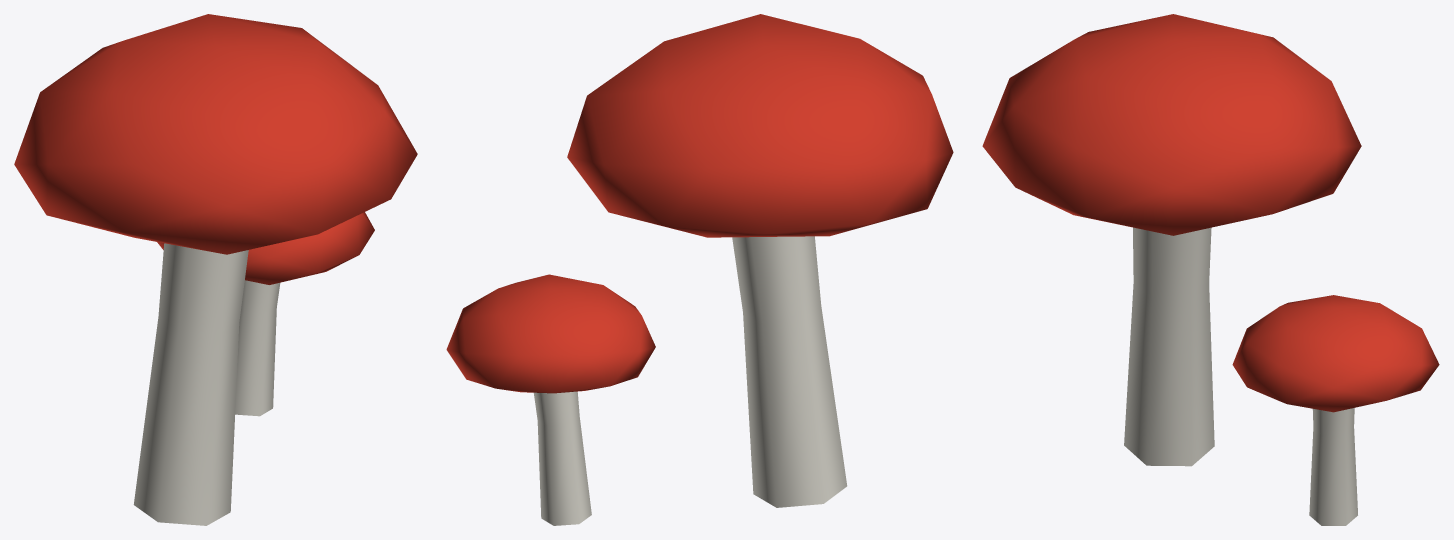
The model's file is red_mushroom_1_mid.glb.
3 renders of one model, left to right at view 1: azimuth 30°, elevation 25°; view 2: azimuth 150°, elevation 25°; view 3: azimuth 270°, elevation 25°, orthographic. The views are drawn at different scales.
Parts seen in each view (by area): view 1: red_mushroom_1_mid; view 2: red_mushroom_1_mid; view 3: red_mushroom_1_mid.
Boxes of the visible parts, x1=… form: red_mushroom_1_mid: x1=14, y1=14, x2=417, y2=525; red_mushroom_1_mid: x1=446, y1=14, x2=953, y2=525; red_mushroom_1_mid: x1=982, y1=14, x2=1439, y2=525.
Size of the model in its own units: 0.2911 by 0.3225 by 0.3145.
